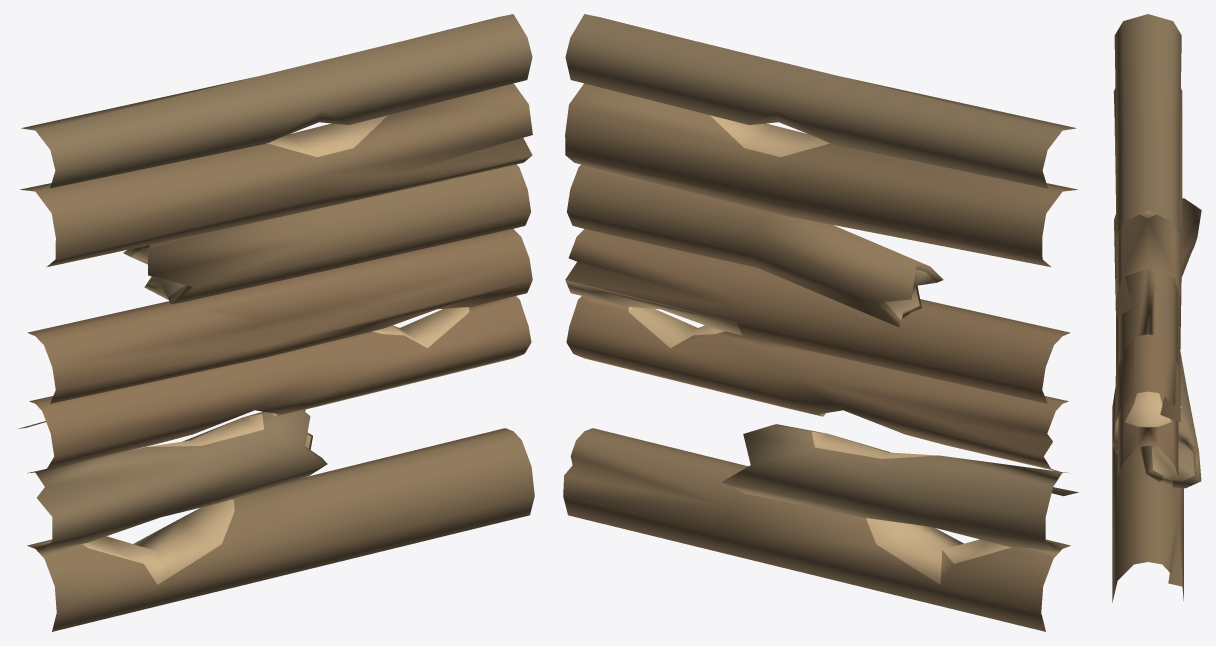
File: rpgpp_av_wall_03_3x3_c.gltf
3 views of the same model, side by side, from view 1: azimuth 30°, elevation 25°; view 2: azimuth 150°, elevation 25°; view 3: azimuth 270°, elevation 25° (orthographic). The views are drawn at different scales.
Visible parts, largest first — view 1: rpgpp_av_wall_03_3x3_c; view 2: rpgpp_av_wall_03_3x3_c; view 3: rpgpp_av_wall_03_3x3_c.
Boxes of the visible parts, x1,y1,x2,y2 form: rpgpp_av_wall_03_3x3_c: (18, 14, 534, 631); rpgpp_av_wall_03_3x3_c: (563, 14, 1078, 631); rpgpp_av_wall_03_3x3_c: (1112, 14, 1201, 602).
Size of the model in its own units: 0.03 by 0.03 by 0.00576.
1 material, 1 textured.
